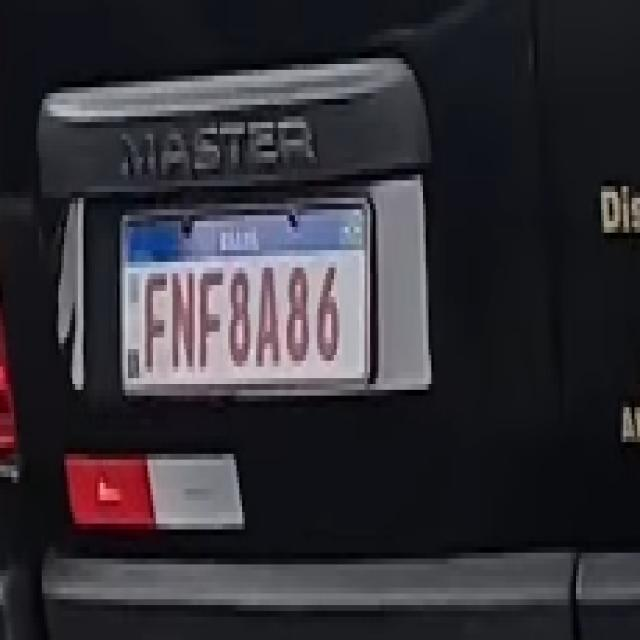Placa_mercosul_carro: (121, 197, 372, 396)
